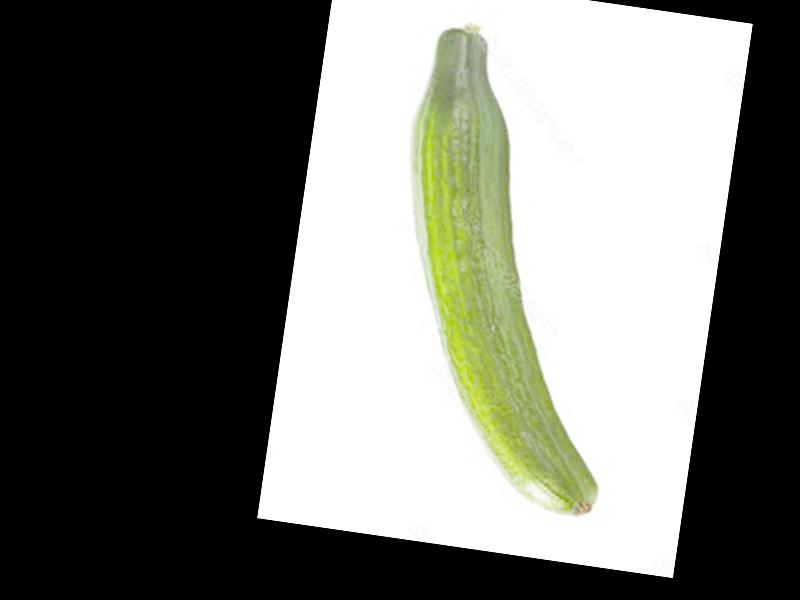Cucumber: (361, 16, 663, 519)
